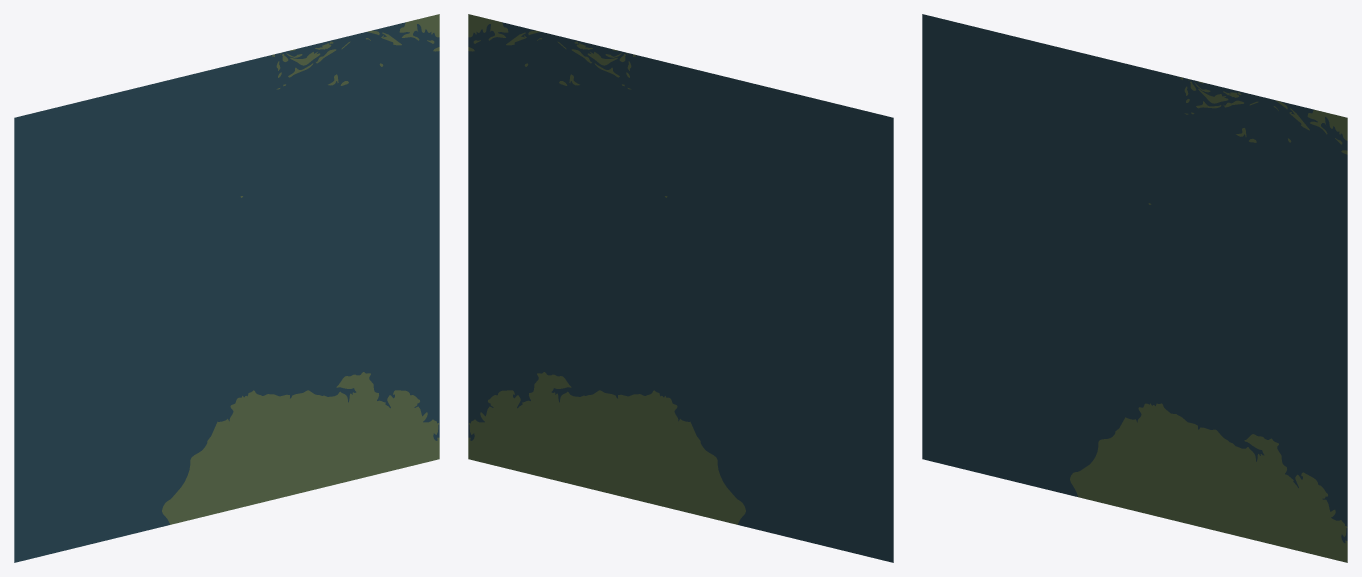
File: shape_111_Coast_11.glb
3 views of the same model, side by side, from view 1: azimuth 30°, elevation 25°; view 2: azimuth 150°, elevation 25°; view 3: azimuth 330°, elevation 25° (orthographic).
Size of the model in its own units: 4096 by 4096 by 0.
